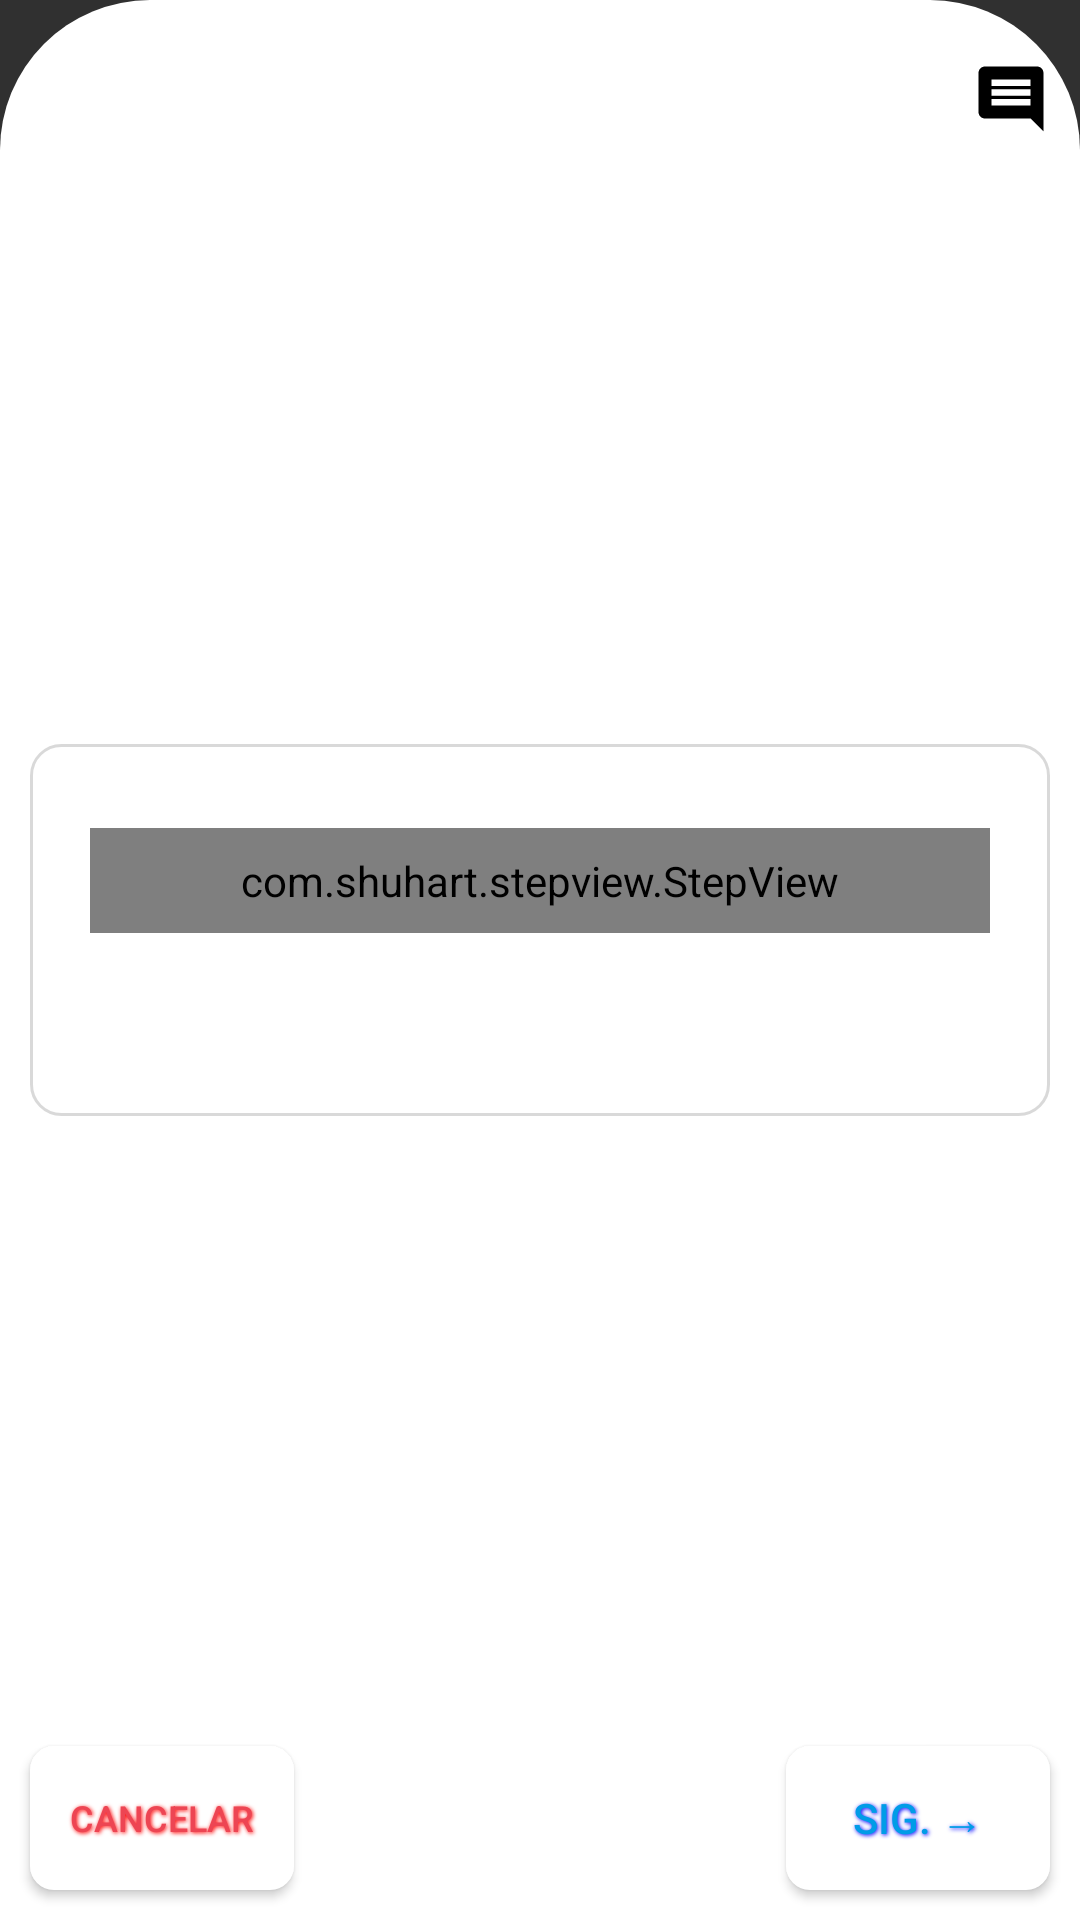

Locate icon controls on the screen. Image size 1080px x 1920px, boxes as (x1, y1, x2, y2).
comment: (978, 66, 1044, 131)
